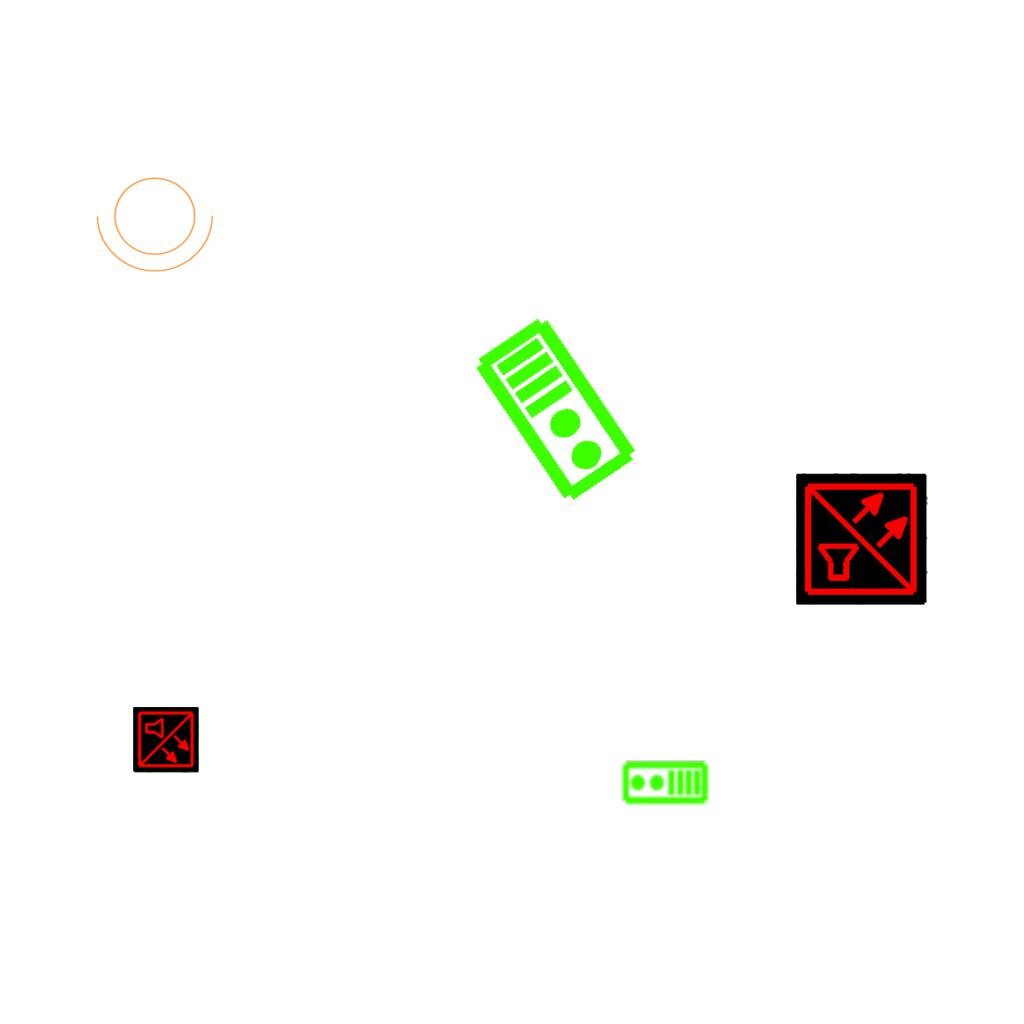Gegensprechanlage_mit_Video: (468, 309, 647, 509), (621, 760, 709, 807)
OKW_Multisensormelder_(Kombination_optischer_Rauch-Kahlenmonoxid_Waerme-Melder): (796, 473, 928, 605), (133, 707, 199, 773)
Scheinwerfer_fuer_Alarmbeleuchtung: (92, 165, 224, 277)
